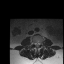CCS_normal: (36, 41, 37, 48)
LFS_normal: (39, 41, 41, 46)
LLS_normal: (37, 42, 39, 47)
RFS_normal: (33, 41, 35, 46)
RLS_normal: (35, 42, 36, 46)
